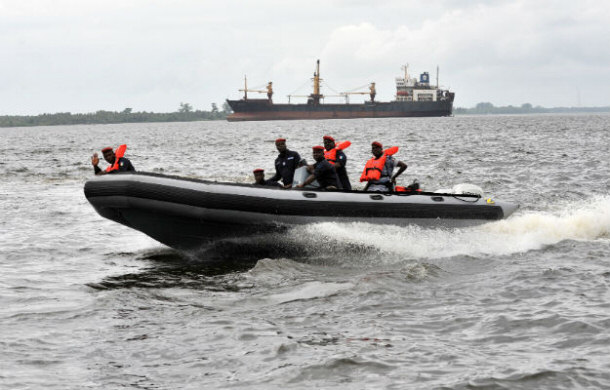Bulker: (226, 59, 456, 123)
Pirate boat: (82, 135, 521, 257)
